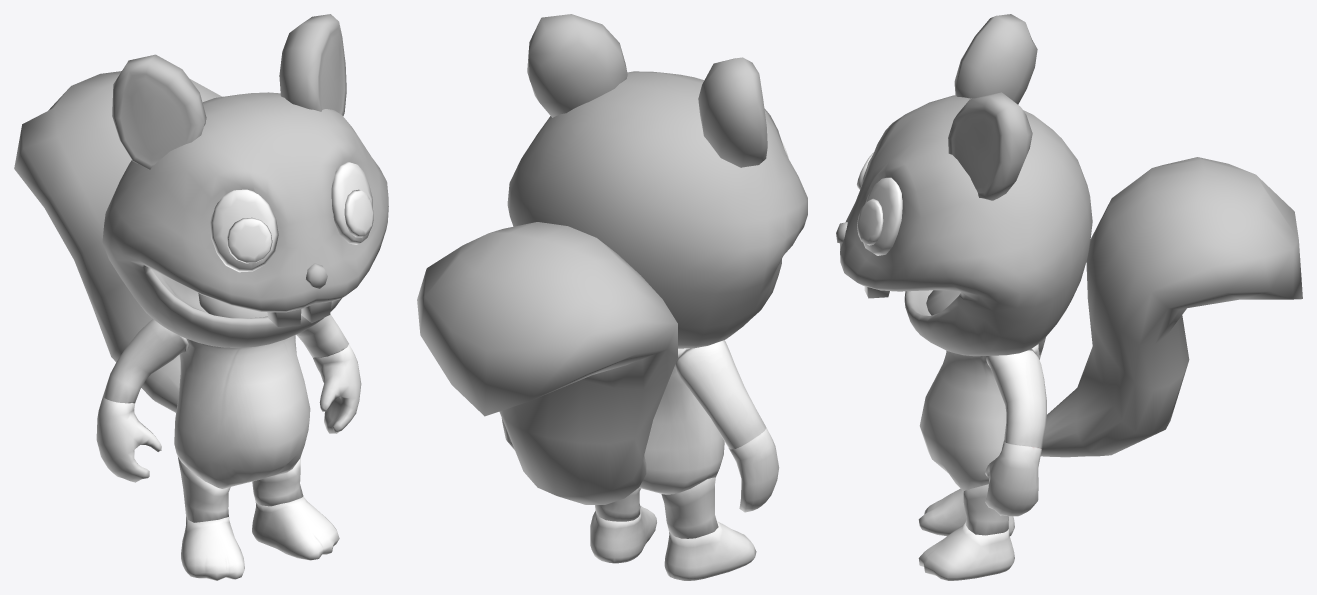
Rendered from SM_Character_Squirrel.FBX.
3 views of the same model, side by side, from view 1: azimuth 30°, elevation 25°; view 2: azimuth 150°, elevation 25°; view 3: azimuth 270°, elevation 25° (orthographic). The views are drawn at different scales.
Visible parts, largest first — view 1: Squirrel, NEWBody, Eyes; view 2: Squirrel, NEWBody; view 3: Squirrel, NEWBody, Eyes.
Boxes of the visible parts, x1,y1,x2,y2 form: Squirrel: (14, 14, 388, 412); NEWBody: (96, 314, 361, 580); Eyes: (210, 162, 373, 272); Squirrel: (417, 14, 807, 504); NEWBody: (501, 340, 779, 580); Squirrel: (836, 14, 1302, 457); NEWBody: (918, 337, 1046, 580); Eyes: (857, 152, 902, 255).
Size of the model in its own units: 0.5426 by 1.02 by 0.8768.
